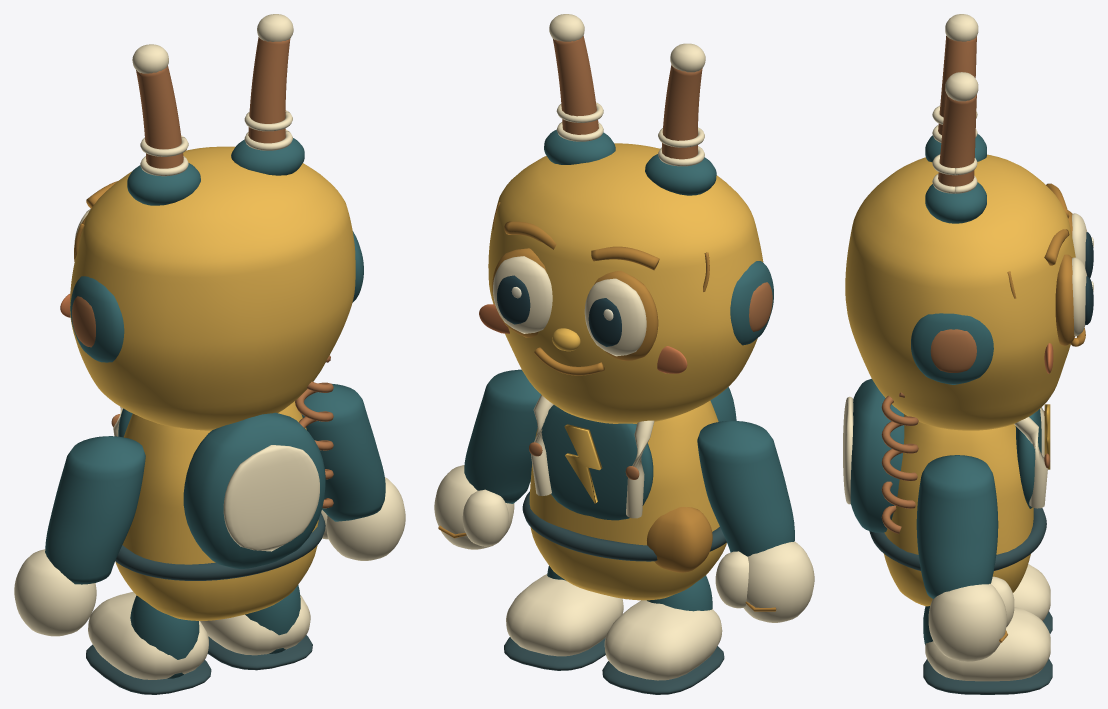
File: spark_art18.glb
3 renders of one model, left to right at view 1: azimuth 30°, elevation 25°; view 2: azimuth 150°, elevation 25°; view 3: azimuth 270°, elevation 25°, orthographic. The views are drawn at different scales.
Visible parts, largest first — view 1: SparkHead_Saffron clay, SparkBody_Saffron clay, SparkArmL_Deep teal cloth, SparkBody_Deep teal cloth, SparkBody_Cream ceramic, SparkArmR_Deep teal cloth, SparkLegL_Cream ceramic, SparkGloveL_Cream ceramic, SparkGloveR_Cream ceramic, SparkProngR_Copper contacts, SparkProngL_Copper contacts, SparkHead_Deep teal cloth (+12 smaller); view 2: SparkHead_Saffron clay, SparkBody_Saffron clay, SparkArmL_Deep teal cloth, SparkBody_Deep teal cloth, SparkArmR_Deep teal cloth, SparkLegL_Cream ceramic, SparkLegR_Cream ceramic, SparkGloveL_Cream ceramic, SparkHead_Cream ceramic, SparkGloveR_Cream ceramic, SparkBody_Warm seam, SparkProngR_Copper contacts (+18 smaller); view 3: SparkHead_Saffron clay, SparkBody_Saffron clay, SparkArmR_Deep teal cloth, SparkBody_Deep teal cloth, SparkGloveR_Cream ceramic, SparkLegR_Cream ceramic, SparkHead_Deep teal cloth, SparkProngR_Copper contacts, SparkBody_Cream ceramic, SparkBody_Copper contacts, SparkLegR_Soft sole, SparkBody_Soft sole (+11 smaller).
Boxes of the visible parts, <box> form: SparkHead_Saffron clay: <box>70,146,355,430</box>; SparkBody_Saffron clay: <box>115,401,318,620</box>; SparkArmL_Deep teal cloth: <box>45,436,145,584</box>; SparkBody_Deep teal cloth: <box>118,408,325,568</box>; SparkBody_Cream ceramic: <box>113,406,319,551</box>; SparkArmR_Deep teal cloth: <box>301,384,385,521</box>; SparkLegL_Cream ceramic: <box>88,592,208,679</box>; SparkGloveL_Cream ceramic: <box>14,549,96,636</box>; SparkGloveR_Cream ceramic: <box>321,477,405,560</box>; SparkProngR_Copper contacts: <box>248,37,290,143</box>; SparkProngL_Copper contacts: <box>136,65,183,168</box>; SparkHead_Deep teal cloth: <box>70,231,363,362</box>; SparkHead_Saffron clay: <box>488,143,763,423</box>; SparkBody_Saffron clay: <box>529,400,726,600</box>; SparkArmL_Deep teal cloth: <box>697,421,794,556</box>; SparkBody_Deep teal cloth: <box>541,387,736,520</box>; SparkArmR_Deep teal cloth: <box>464,369,540,503</box>; SparkLegL_Cream ceramic: <box>604,600,722,680</box>; SparkLegR_Cream ceramic: <box>506,574,623,656</box>; SparkGloveL_Cream ceramic: <box>715,541,814,622</box>; SparkHead_Cream ceramic: <box>493,256,646,356</box>; SparkGloveR_Cream ceramic: <box>434,465,514,549</box>; SparkBody_Warm seam: <box>647,507,712,572</box>; SparkProngR_Copper contacts: <box>553,36,598,134</box>; SparkHead_Saffron clay: <box>845,154,1075,430</box>; SparkBody_Saffron clay: <box>883,404,1050,606</box>; SparkArmR_Deep teal cloth: <box>916,455,998,598</box>; SparkBody_Deep teal cloth: <box>850,378,1041,532</box>; SparkGloveR_Cream ceramic: <box>928,576,1014,661</box>; SparkLegR_Cream ceramic: <box>925,607,1050,681</box>; SparkHead_Deep teal cloth: <box>911,313,993,384</box>; SparkProngR_Copper contacts: <box>938,93,976,186</box>; SparkBody_Cream ceramic: <box>843,396,1047,508</box>; SparkBody_Copper contacts: <box>881,392,1050,534</box>; SparkLegR_Soft sole: <box>923,659,1052,694</box>; SparkBody_Soft sole: <box>869,508,1046,570</box>.
Bounding box in the file's own units: 1.65 × 2.66 × 0.9858.
